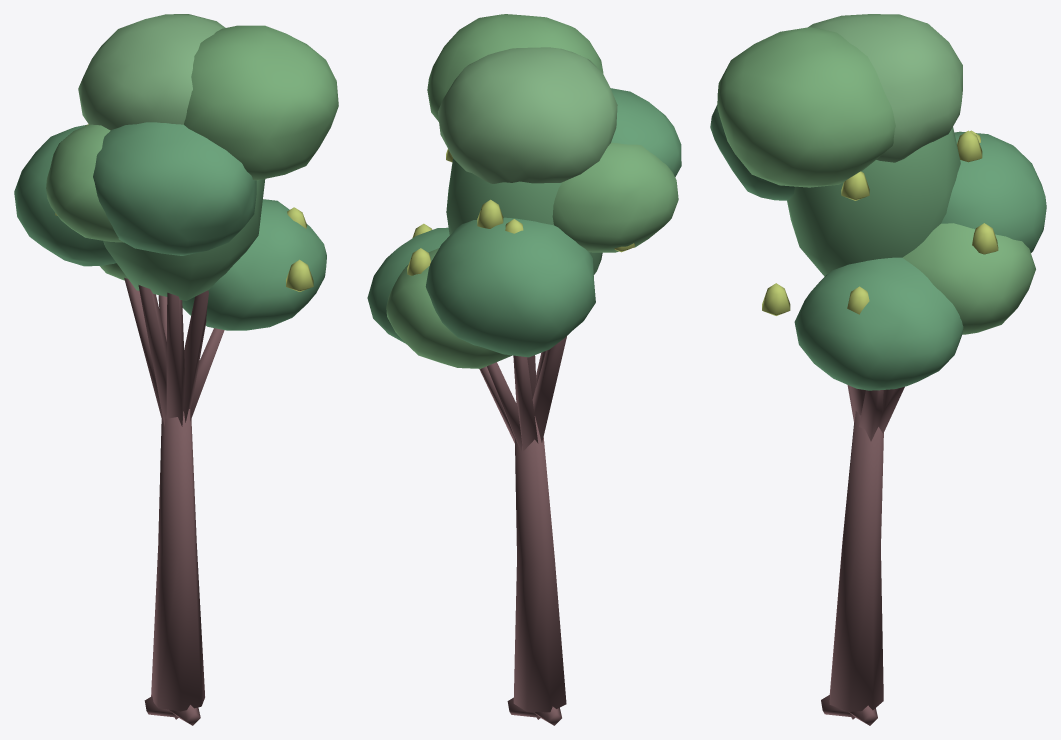
Rendered from pear_tree_b1.glb.
The picture shows the model from 3 angles, left to right: view 1: azimuth 30°, elevation 25°; view 2: azimuth 150°, elevation 25°; view 3: azimuth 270°, elevation 25°; orthographic projection. The views are drawn at different scales.
Parts seen in each view (by area): view 1: pear_tree_b1; view 2: pear_tree_b1; view 3: pear_tree_b1.
Boxes of the visible parts, box(x1,y1,x2,y2) form: pear_tree_b1: box(14, 14, 338, 725); pear_tree_b1: box(367, 14, 681, 725); pear_tree_b1: box(710, 14, 1046, 725).
Size of what is drawn, in the model's own units: 2.96 by 7 by 3.05.
